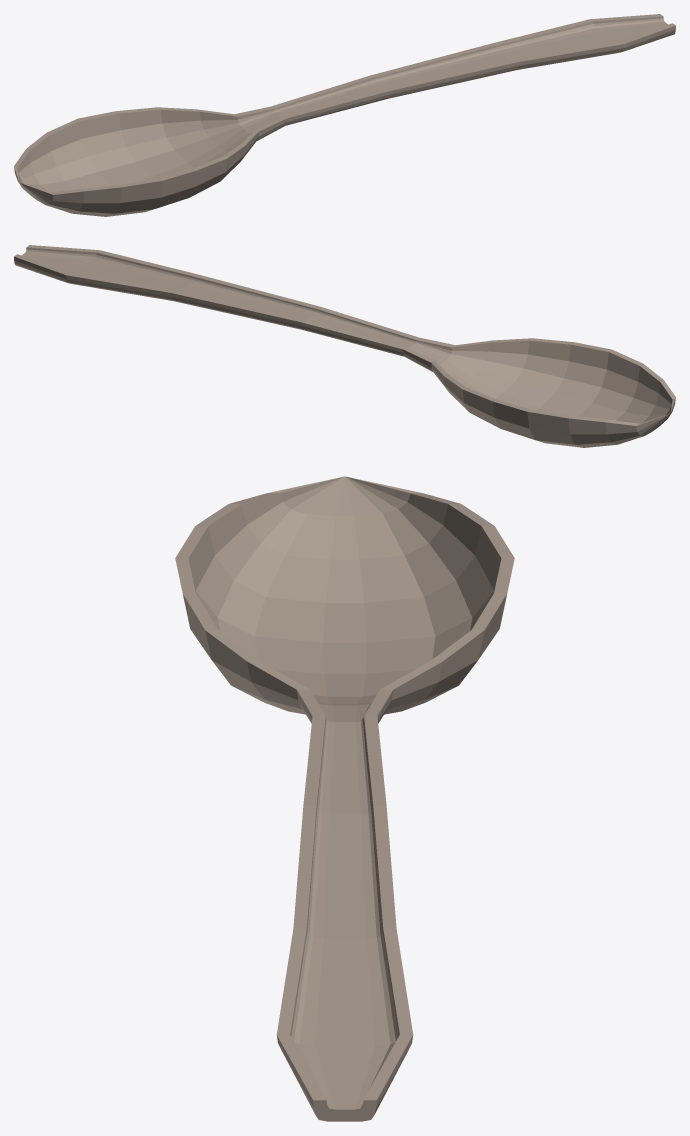
The model's file is SM_Cook_SoupSpoon_01.glb.
3 renders of one model, top to bottom at view 1: azimuth 30°, elevation 25°; view 2: azimuth 150°, elevation 25°; view 3: azimuth 270°, elevation 25°, orthographic. The views are drawn at different scales.
Parts seen in each view (by area): view 1: SM_Cook_SoupSpoon_01; view 2: SM_Cook_SoupSpoon_01; view 3: SM_Cook_SoupSpoon_01.
Boxes of the visible parts, left/top/right/bottom form: SM_Cook_SoupSpoon_01: left=14, top=14, right=675, bottom=216; SM_Cook_SoupSpoon_01: left=14, top=245, right=675, bottom=447; SM_Cook_SoupSpoon_01: left=175, top=476, right=514, bottom=1121.
Size of the model in its own units: 0.18 by 0.0136 by 0.0408.
Materials: 1 (1 with a texture image).
